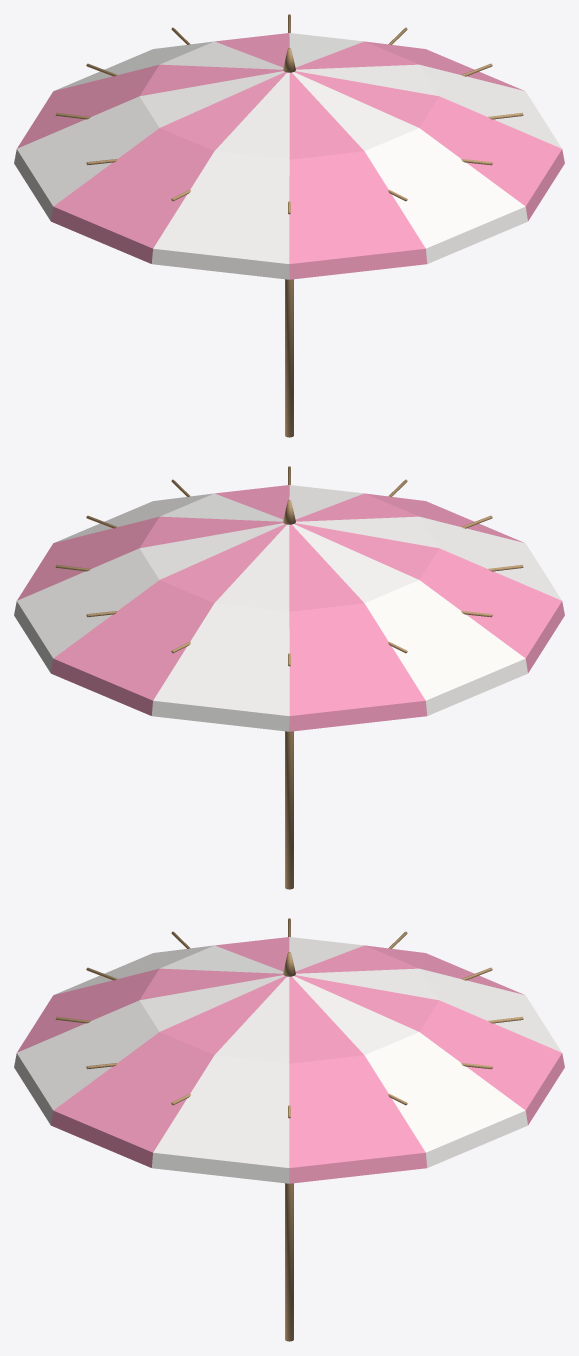
File: prop_beach_umbrella.glb
3 views of the same model, one above another, from view 1: azimuth 30°, elevation 25°; view 2: azimuth 150°, elevation 25°; view 3: azimuth 270°, elevation 25° (orthographic).
Visible parts, largest first — view 1: Pole; view 2: Pole; view 3: Pole.
Boxes of the visible parts, <box> form: Pole: <box>14,14,564,437</box>; Pole: <box>14,466,564,889</box>; Pole: <box>14,918,564,1341</box>.
Size of the model in its own units: 3.8 by 2.94 by 3.8.
